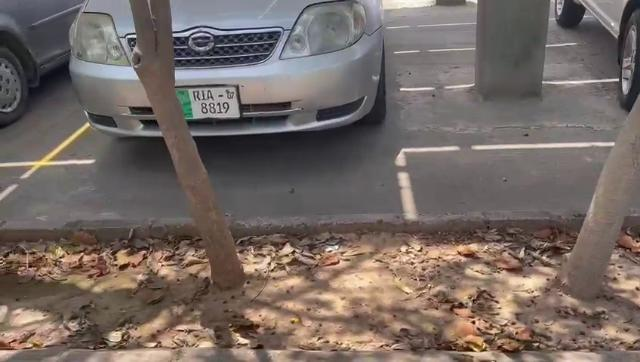plate: (175, 81, 245, 121)
